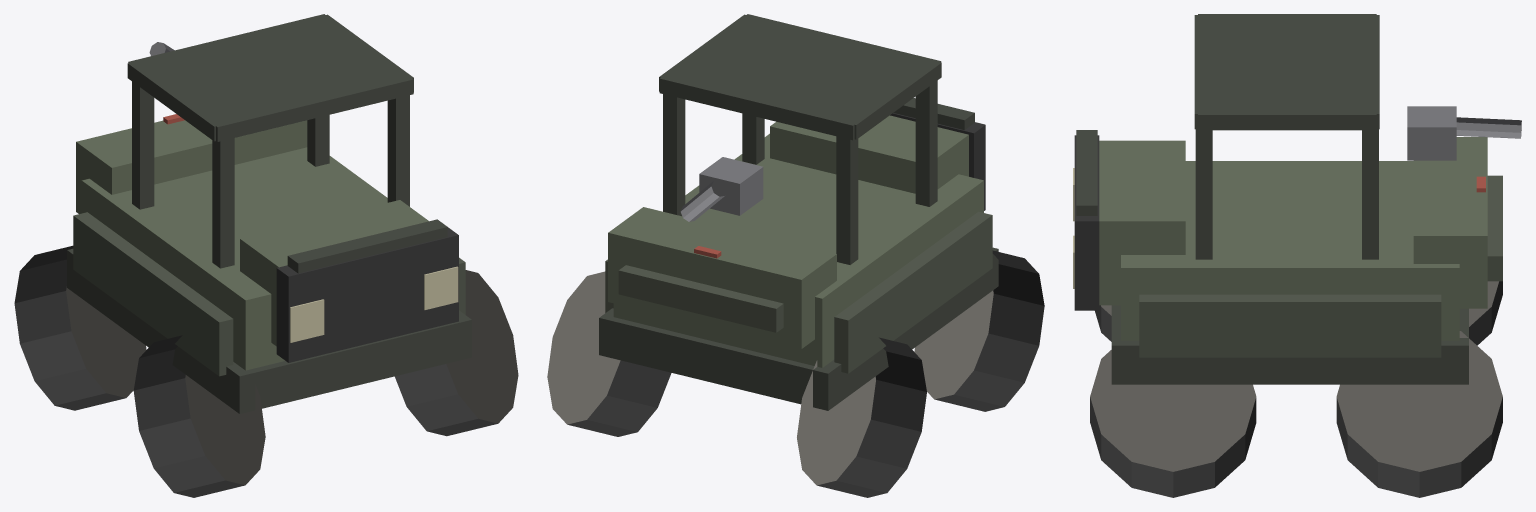
The model's file is simple_jeep.glb.
The picture shows the model from 3 angles, left to right: view 1: azimuth 30°, elevation 25°; view 2: azimuth 150°, elevation 25°; view 3: azimuth 270°, elevation 25°; orthographic projection. The views are drawn at different scales.
Bounding box in the file's own units: 1.18 × 1.28 × 1.46.
